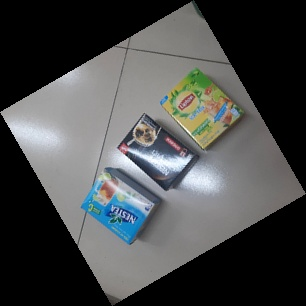CF Viet: (115, 113, 200, 192)
LipTon: (159, 67, 246, 148)
Nestea: (80, 166, 163, 252)
